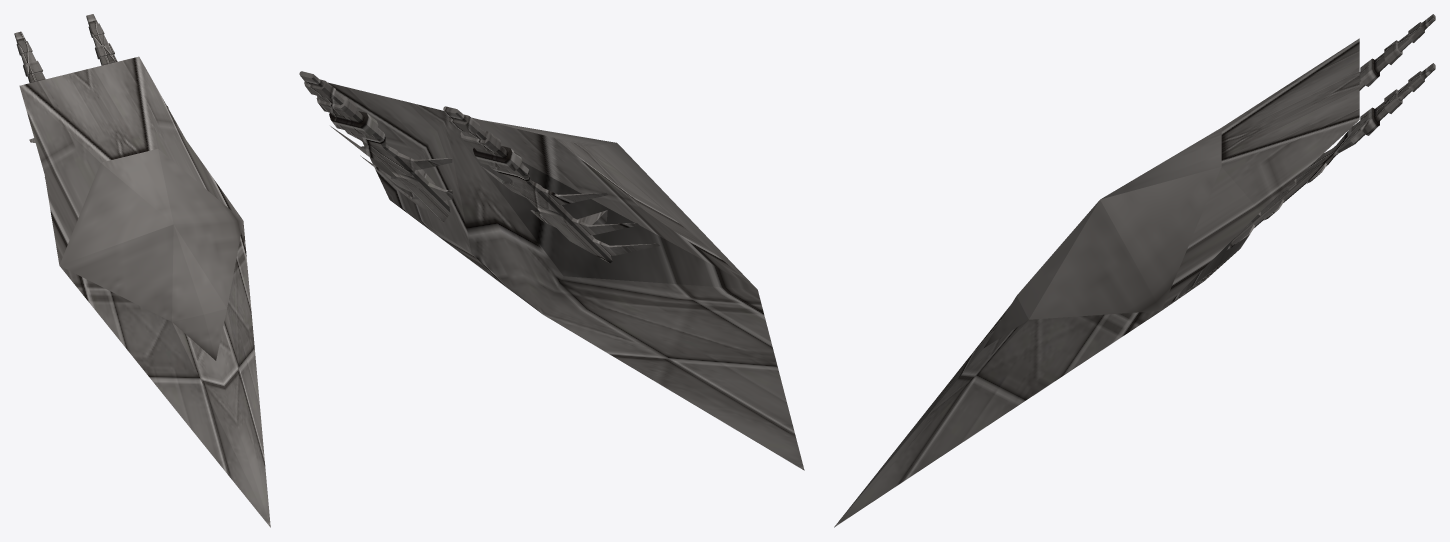
The model's file is wing_close.fbx.
3 renders of one model, left to right at view 1: azimuth 30°, elevation 25°; view 2: azimuth 150°, elevation 25°; view 3: azimuth 270°, elevation 25°, orthographic. The views are drawn at different scales.
Visible parts, largest first — view 1: F_Wing, polySurface3233; view 2: F_Wing, polySurface3233; view 3: F_Wing, polySurface3233.
Part boxes in pixels (box(x1,y1,x2,y2)): F_Wing: box(14, 14, 270, 527); polySurface3233: box(59, 149, 243, 360); F_Wing: box(299, 71, 804, 470); polySurface3233: box(482, 120, 757, 289); F_Wing: box(834, 14, 1435, 527); polySurface3233: box(984, 128, 1221, 347).
Bounding box in the file's own units: 3.92 × 7.08 × 7.94.
Materials: 2 (1 with a texture image).
